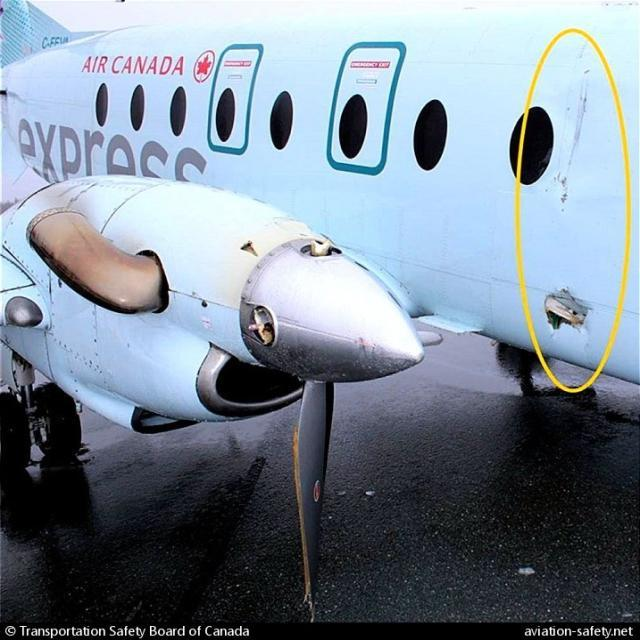crack: (546, 319, 566, 342)
dent: (581, 324, 598, 367)
